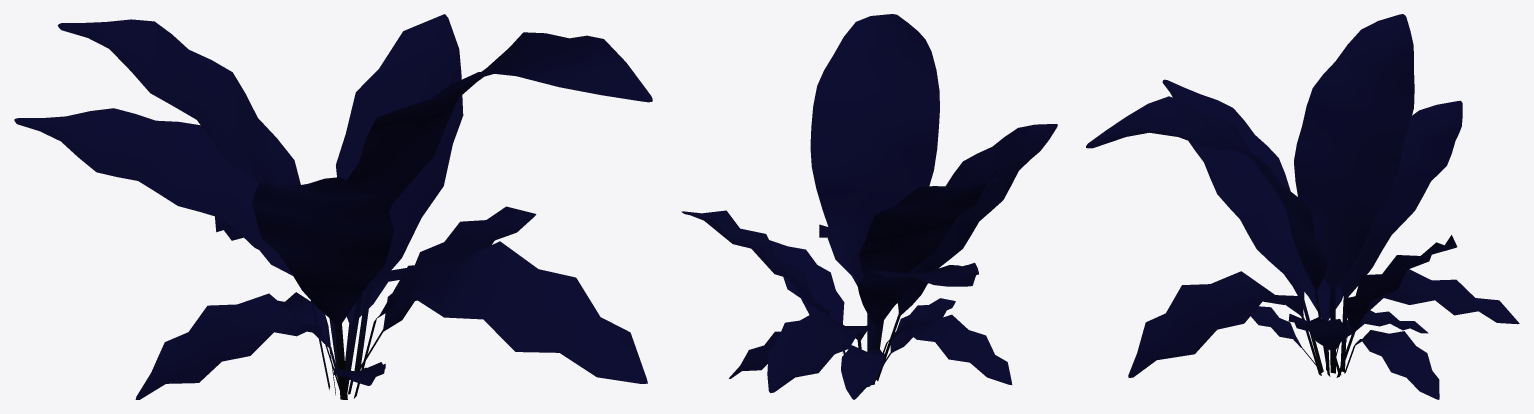
The model's file is SM_Foliage_PalmPlantB_03.fbx.
3 renders of one model, left to right at view 1: azimuth 30°, elevation 25°; view 2: azimuth 150°, elevation 25°; view 3: azimuth 270°, elevation 25°, orthographic. The views are drawn at different scales.
Visible parts, largest first — view 1: SM_Foliage_PalmPlantB_03; view 2: SM_Foliage_PalmPlantB_03; view 3: SM_Foliage_PalmPlantB_03.
Boxes of the visible parts, bbox=[...] form: SM_Foliage_PalmPlantB_03: bbox=[14, 14, 652, 399]; SM_Foliage_PalmPlantB_03: bbox=[681, 14, 1057, 399]; SM_Foliage_PalmPlantB_03: bbox=[1086, 14, 1519, 399].
Bounding box in the file's own units: 192 × 235 × 176.
